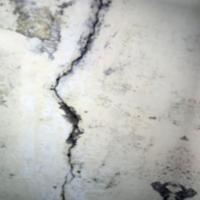crack: (44, 0, 112, 199)
